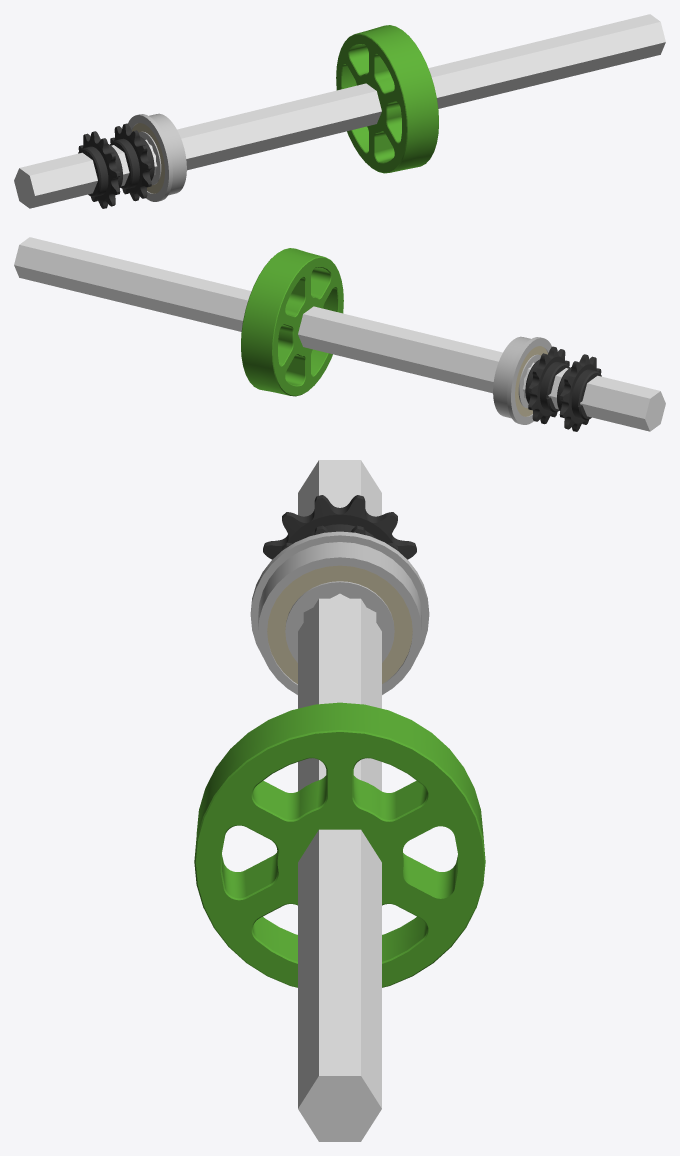
3 renders of one model, top to bottom at view 1: azimuth 30°, elevation 25°; view 2: azimuth 150°, elevation 25°; view 3: azimuth 270°, elevation 25°, orthographic. The views are drawn at different scales.
Visible parts, largest first — view 1: 1/2" Hex (10" L, 7075 Aluminum), 2" Compliant Wheel (35A, 3/4" Wide, 1/2" Hex Stretch Bore), 12t Steel Sprocket (#25, 1/2" Rounded Hex Bore, Double Hub) (×2), 1/2" Hex Bore Bearing (1.125" OD, 0.313" WD, Shielded, Flang; view 2: 1/2" Hex (10" L, 7075 Aluminum), 2" Compliant Wheel (35A, 3/4" Wide, 1/2" Hex Stretch Bore), 12t Steel Sprocket (#25, 1/2" Rounded Hex Bore, Double Hub) (×2), 1/2" Hex Bore Bearing (1.125" OD, 0.313" WD, Shielded, Flang; view 3: 2" Compliant Wheel (35A, 3/4" Wide, 1/2" Hex Stretch Bore), 1/2" Hex (10" L, 7075 Aluminum), 1/2" Hex Bore Bearing (1.125" OD, 0.313" WD, Shielded, Flang, 12t Steel Sprocket (#25, 1/2" Rounded Hex Bore, Double Hub).
Part boxes in pixels (x1,y1,x2,y2): 1/2" Hex (10" L, 7075 Aluminum): (14,14,665,208); 2" Compliant Wheel (35A, 3/4" Wide, 1/2" Hex Stretch Bore): (336,25,438,173); 12t Steel Sprocket (#25, 1/2" Rounded Hex Bore, Double Hub) (×2): (78,123,154,208); 1/2" Hex Bore Bearing (1.125" OD, 0.313" WD, Shielded, Flang: (127,113,186,201); 1/2" Hex (10" L, 7075 Aluminum): (14,237,665,431); 2" Compliant Wheel (35A, 3/4" Wide, 1/2" Hex Stretch Bore): (241,248,343,396); 12t Steel Sprocket (#25, 1/2" Rounded Hex Bore, Double Hub) (×2): (525,346,601,431); 1/2" Hex Bore Bearing (1.125" OD, 0.313" WD, Shielded, Flang: (493,336,552,424); 2" Compliant Wheel (35A, 3/4" Wide, 1/2" Hex Stretch Bore): (194,702,485,987); 1/2" Hex (10" L, 7075 Aluminum): (298,460,381,1141); 1/2" Hex Bore Bearing (1.125" OD, 0.313" WD, Shielded, Flang: (250,531,429,694); 12t Steel Sprocket (#25, 1/2" Rounded Hex Bore, Double Hub): (263,495,416,559).
Bounding box in the file's own units: 0.254 × 0.0508 × 0.0508.
